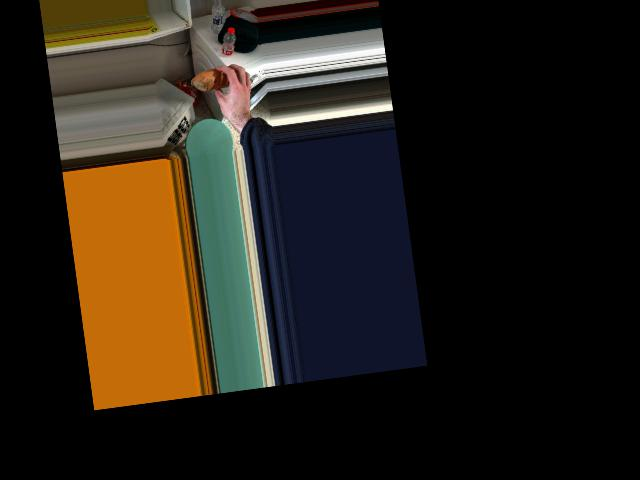sweet_potato: (198, 66, 231, 91)
